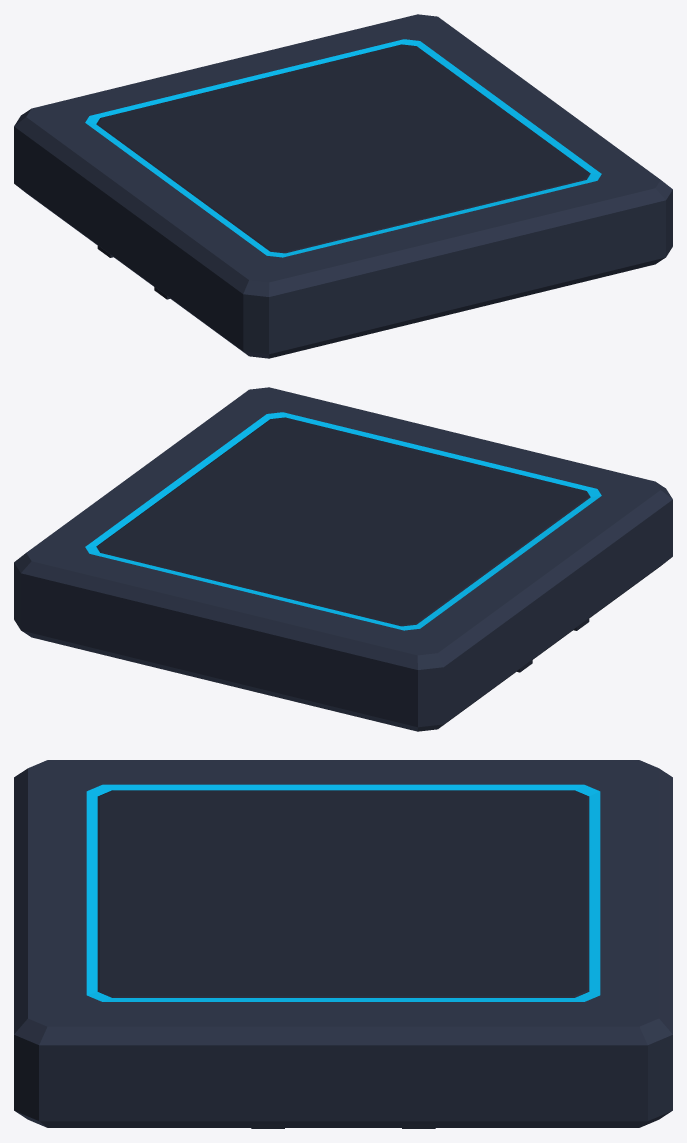
Rendered from SM_Arena_TileVisual_01_VariantB.obj.
3 views of the same model, one above another, from view 1: azimuth 30°, elevation 25°; view 2: azimuth 150°, elevation 25°; view 3: azimuth 270°, elevation 25° (orthographic). The views are drawn at different scales.
Parts seen in each view (by area): view 1: COMP_Arena_TileBevelFrame_118, GEO_Tile_CenterDeckPlate, GEO_Tile_CyanCircuitInlay; view 2: COMP_Arena_TileBevelFrame_118, GEO_Tile_CenterDeckPlate, GEO_Tile_CyanCircuitInlay; view 3: COMP_Arena_TileBevelFrame_118, GEO_Tile_CenterDeckPlate, GEO_Tile_CyanCircuitInlay.
Part boxes in pixels (x1,y1,x2,y2): COMP_Arena_TileBevelFrame_118: [14, 14, 672, 358]; GEO_Tile_CenterDeckPlate: [96, 44, 590, 253]; GEO_Tile_CyanCircuitInlay: [85, 39, 601, 257]; COMP_Arena_TileBevelFrame_118: [14, 387, 672, 731]; GEO_Tile_CenterDeckPlate: [96, 417, 590, 626]; GEO_Tile_CyanCircuitInlay: [85, 412, 601, 630]; COMP_Arena_TileBevelFrame_118: [14, 760, 672, 1127]; GEO_Tile_CenterDeckPlate: [97, 790, 589, 997]; GEO_Tile_CyanCircuitInlay: [86, 784, 600, 1001].
Bounding box in the file's own units: 11.8 × 2 × 11.8.
4 materials, 4 textured.
